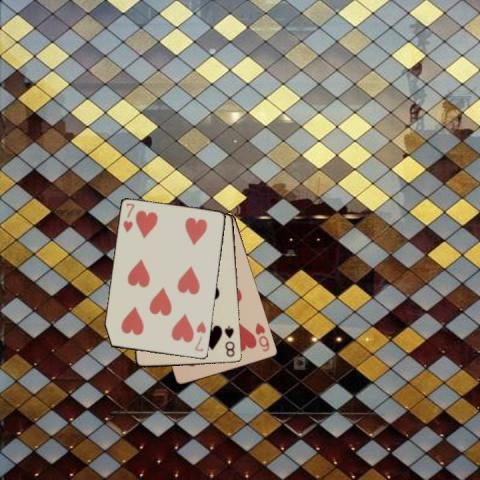6h: (252, 320, 271, 354)
7h: (192, 319, 207, 353), (121, 201, 136, 234)
8s: (222, 323, 236, 358)
